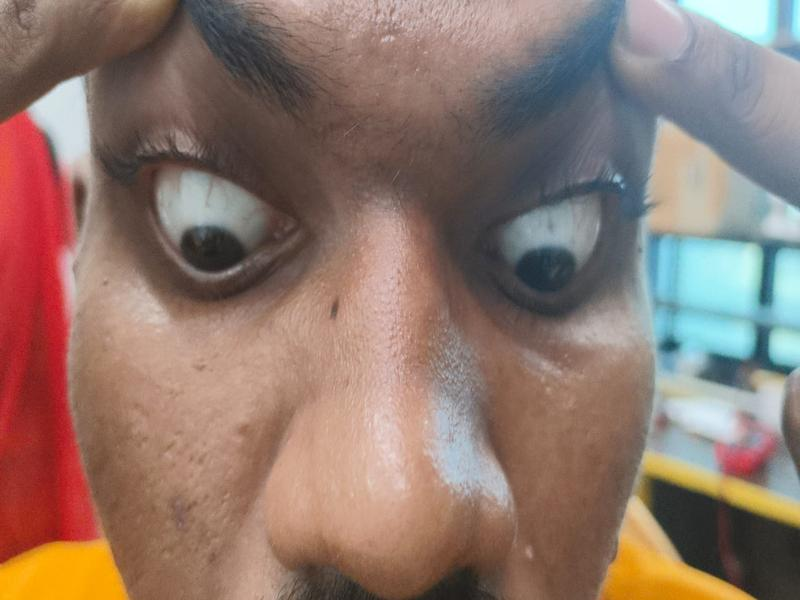EYE DOWN: (160, 163, 257, 269), (501, 195, 598, 294)
